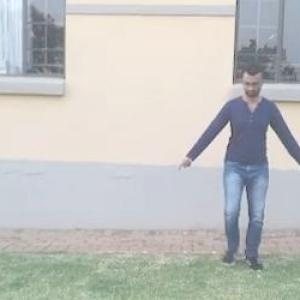land: (179, 57, 299, 284)
